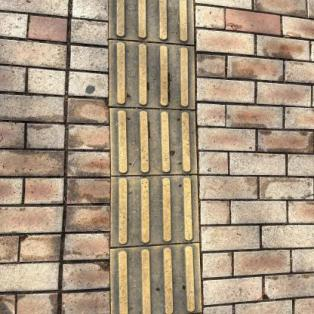Podoctatil: (99, 0, 211, 313)
